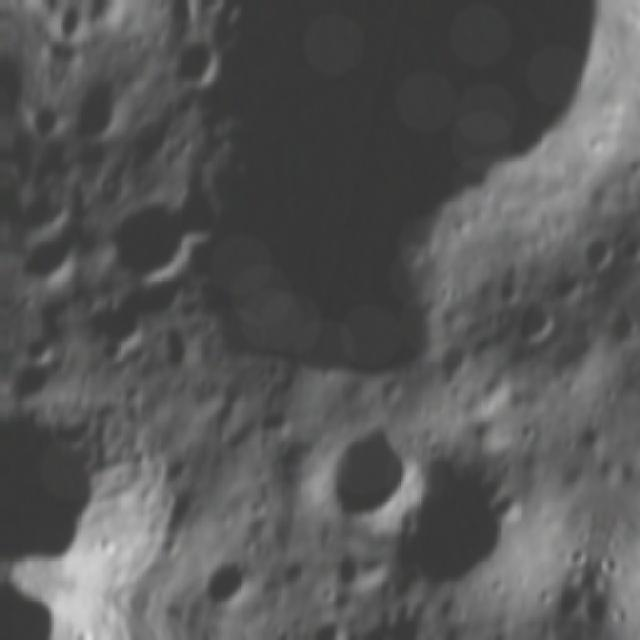crater: (119, 0, 615, 443), (0, 381, 198, 604), (372, 443, 533, 606), (308, 410, 430, 552), (88, 190, 200, 292), (63, 65, 146, 153), (5, 224, 89, 304), (190, 548, 264, 626), (124, 260, 202, 329), (159, 176, 230, 250), (81, 288, 156, 354), (161, 28, 227, 98), (503, 288, 565, 358), (14, 180, 74, 248), (8, 357, 66, 412), (121, 110, 176, 164), (376, 601, 447, 640), (568, 228, 618, 281), (318, 546, 368, 594), (482, 480, 528, 532), (597, 303, 640, 357), (74, 0, 133, 38), (242, 399, 295, 441), (139, 0, 208, 32), (13, 327, 58, 370), (543, 582, 583, 629), (430, 340, 472, 383), (568, 417, 607, 460), (300, 606, 349, 640), (491, 268, 526, 310), (563, 305, 597, 347), (609, 227, 640, 270), (425, 273, 460, 310), (552, 540, 586, 575), (216, 430, 247, 459), (522, 629, 570, 640), (452, 634, 496, 640)
